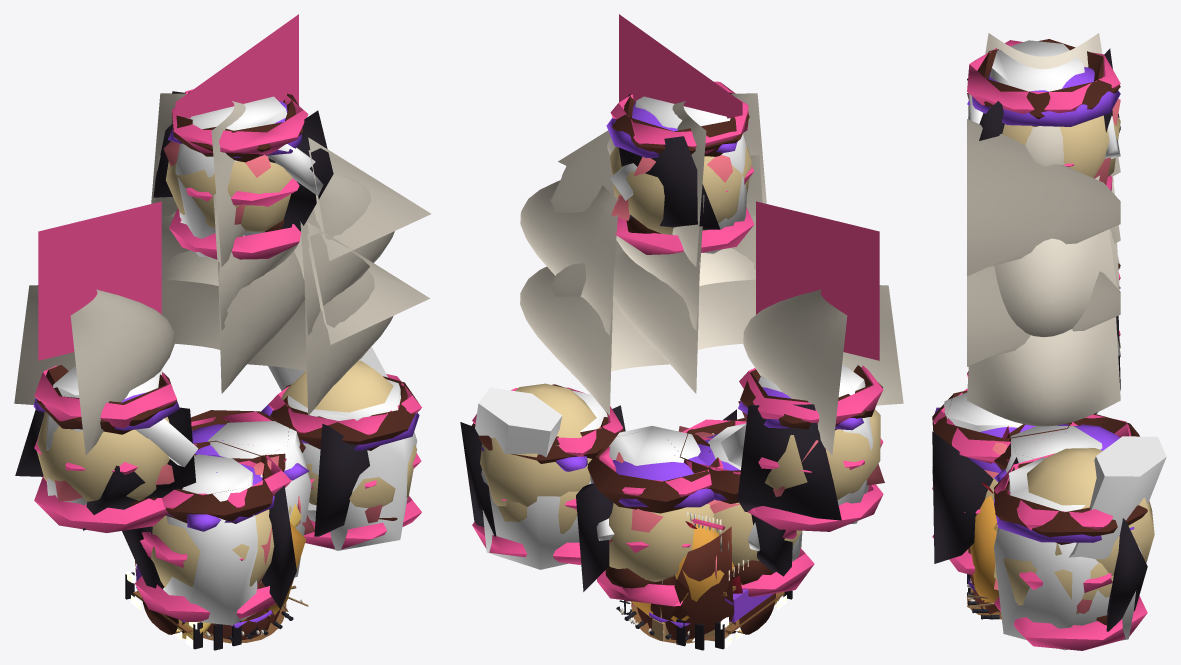
File: navire-kikso-leger.glb
The picture shows the model from 3 angles, left to right: view 1: azimuth 30°, elevation 25°; view 2: azimuth 150°, elevation 25°; view 3: azimuth 270°, elevation 25°; orthographic projection. The views are drawn at different scales.
Parts seen in each view (by area): view 1: matelot_corde.002, matelot_barreur.002, matelot_vigie.002, matelot_salut.002, drapeau.003, voile_artimon.002, voile_grande.003, voile_misaine.003, matelot_porteur.002, voile_misaine_hune.002, flamme.003, voile_foc.003 (+5 smaller); view 2: matelot_barreur.002, matelot_porteur.002, matelot_vigie.002, drapeau.003, voile_artimon.002, matelot_salut.002, matelot_salut_bras.002, navire_corps.003, voile_grande.003, voile_misaine.003, matelot_corde.002, voile_misaine_hune.002 (+5 smaller); view 3: matelot_salut.002, matelot_vigie.002, voile_foc.003, voile_misaine.003, matelot_salut_bras.002, matelot_corde.002, voile_misaine_hune.002, voile_foc2.002, matelot_porteur.002, voile_perroquet.003, navire_corps.003.
Part boxes in pixels (bbox=[...]): matelot_corde.002: bbox=[122, 440, 296, 625]; matelot_barreur.002: bbox=[15, 365, 198, 532]; matelot_vigie.002: bbox=[153, 89, 333, 259]; matelot_salut.002: bbox=[261, 374, 421, 550]; drapeau.003: bbox=[38, 201, 161, 360]; voile_artimon.002: bbox=[14, 285, 174, 455]; voile_grande.003: bbox=[161, 216, 304, 393]; voile_misaine.003: bbox=[247, 270, 393, 415]; matelot_porteur.002: bbox=[191, 410, 314, 577]; voile_misaine_hune.002: bbox=[300, 172, 394, 335]; flamme.003: bbox=[175, 14, 298, 118]; voile_foc.003: bbox=[308, 137, 430, 260]; matelot_barreur.002: bbox=[720, 364, 884, 531]; matelot_porteur.002: bbox=[576, 426, 723, 606]; matelot_vigie.002: bbox=[606, 81, 754, 254]; drapeau.003: bbox=[756, 201, 879, 360]; voile_artimon.002: bbox=[743, 285, 903, 455]; matelot_salut.002: bbox=[460, 384, 625, 569]; matelot_salut_bras.002: bbox=[475, 383, 600, 506]; navire_corps.003: bbox=[616, 511, 792, 650]; voile_grande.003: bbox=[613, 216, 755, 393]; voile_misaine.003: bbox=[520, 266, 669, 415]; matelot_corde.002: bbox=[667, 409, 814, 596]; voile_misaine_hune.002: bbox=[520, 180, 617, 335]; matelot_salut.002: bbox=[994, 453, 1147, 650]; matelot_vigie.002: bbox=[967, 39, 1120, 190]; voile_foc.003: bbox=[967, 119, 1120, 276]; voile_misaine.003: bbox=[967, 317, 1120, 426]; matelot_salut_bras.002: bbox=[1027, 436, 1166, 575]; matelot_corde.002: bbox=[932, 388, 1082, 575]; voile_misaine_hune.002: bbox=[994, 175, 1116, 337]; voile_foc2.002: bbox=[967, 266, 1120, 366]; matelot_porteur.002: bbox=[994, 413, 1139, 502]; voile_perroquet.003: bbox=[985, 33, 1120, 176]; navire_corps.003: bbox=[967, 482, 1002, 622].
Bounding box in the file's own units: 6.2 × 9 × 3.05.
